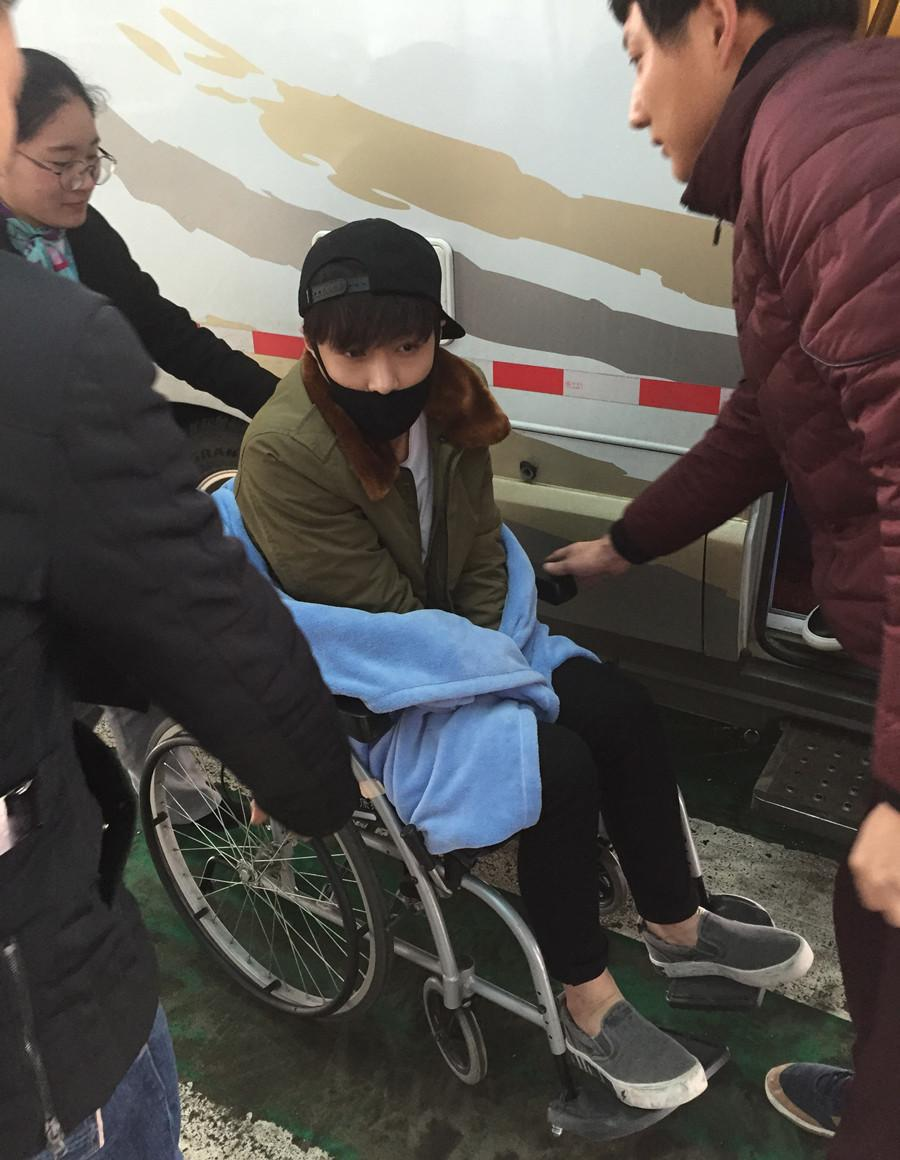NONE: (612, 19, 761, 186), (9, 121, 109, 229)
WRONG: (326, 322, 436, 432)
